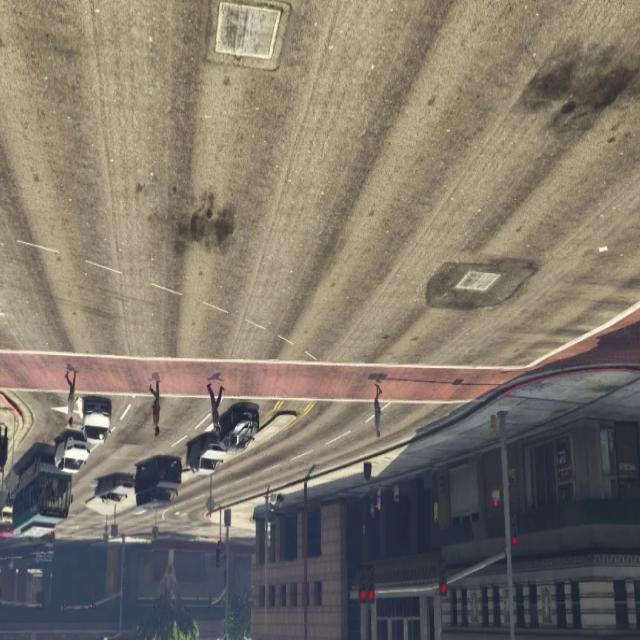Red-Signal: (354, 548, 380, 614), (434, 550, 456, 606), (511, 534, 518, 550)
